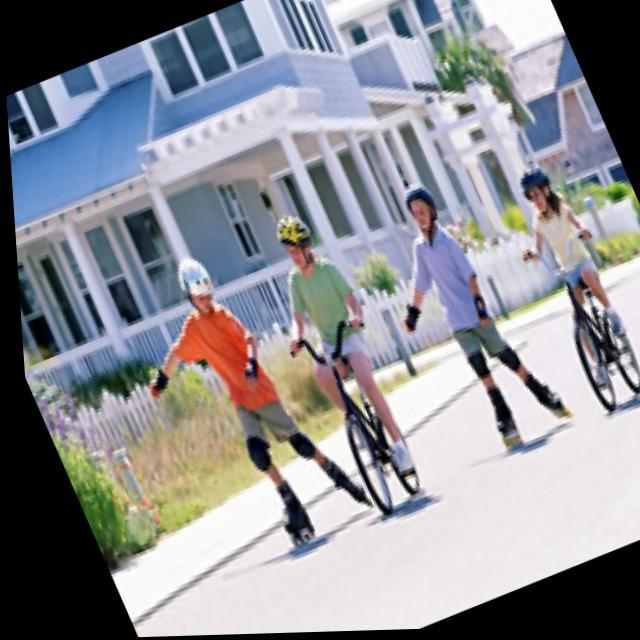Helmet: (173, 250, 221, 326), (272, 207, 322, 273), (393, 182, 449, 238), (512, 167, 562, 224)
